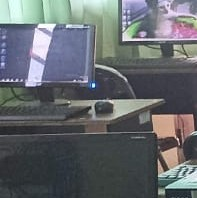monitor: (0, 23, 96, 91), (118, 0, 196, 47)
